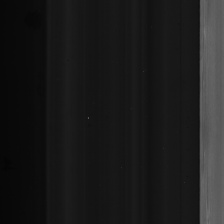silk_spot: (201, 12, 216, 224)
